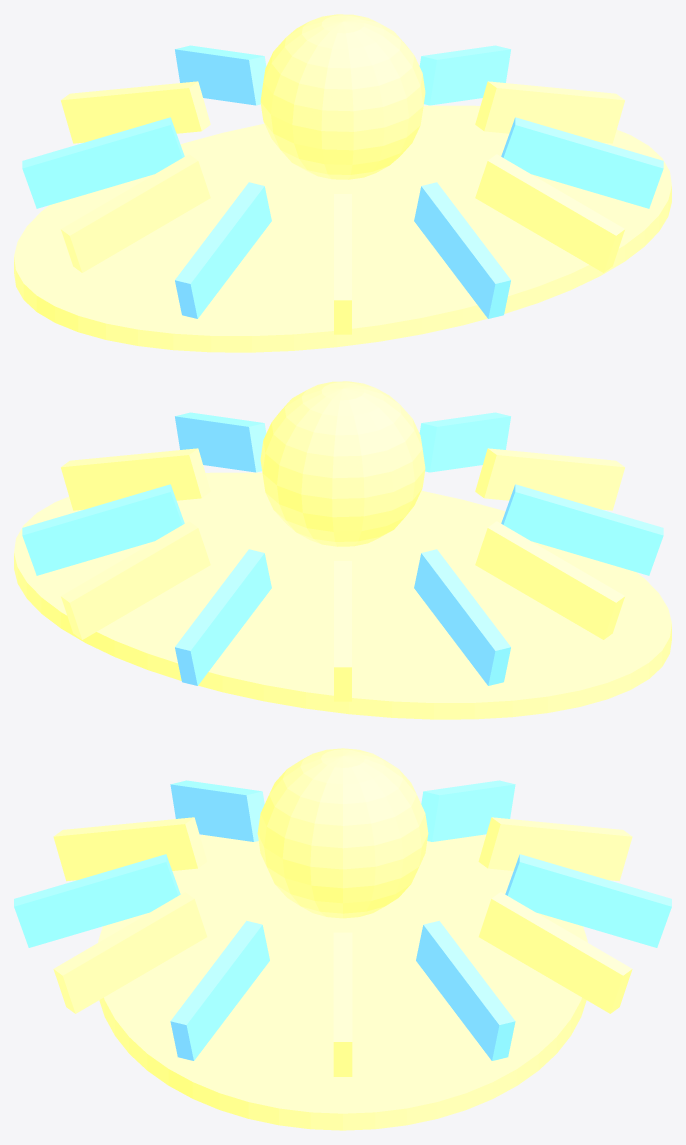
File: stagger_burst.glb
3 views of the same model, one above another, from view 1: azimuth 30°, elevation 25°; view 2: azimuth 150°, elevation 25°; view 3: azimuth 270°, elevation 25° (orthographic). The views are drawn at different scales.
Parts seen in each view (by area): view 1: stagger shock ring, stagger exposed core, stagger shard 5, stagger shard 11, stagger shard 6, stagger shard 10, stagger shard 0, stagger shard 4, stagger shard 7, stagger shard 9, stagger shard 3, stagger shard 1 (+1 smaller); view 2: stagger shock ring, stagger exposed core, stagger shard 1, stagger shard 7, stagger shard 2, stagger shard 6, stagger shard 0, stagger shard 8, stagger shard 3, stagger shard 5, stagger shard 9, stagger shard 11 (+1 smaller); view 3: stagger shock ring, stagger exposed core, stagger shard 3, stagger shard 9, stagger shard 2, stagger shard 10, stagger shard 4, stagger shard 8, stagger shard 1, stagger shard 11, stagger shard 5, stagger shard 7 (+1 smaller).
Part boxes in pixels (<box>): stagger shock ring: <box>14,105,671,352</box>; stagger exposed core: <box>260,14,425,179</box>; stagger shard 5: <box>22,117,184,208</box>; stagger shard 11: <box>501,117,663,208</box>; stagger shard 6: <box>60,154,210,272</box>; stagger shard 10: <box>475,154,625,272</box>; stagger shard 0: <box>475,81,624,143</box>; stagger shard 4: <box>61,81,210,143</box>; stagger shard 7: <box>175,182,271,318</box>; stagger shard 9: <box>414,182,510,318</box>; stagger shard 3: <box>175,45,266,105</box>; stagger shard 1: <box>419,45,510,105</box>; stagger shock ring: <box>14,472,671,719</box>; stagger exposed core: <box>260,381,425,546</box>; stagger shard 1: <box>22,484,184,575</box>; stagger shard 7: <box>501,484,663,575</box>; stagger shard 2: <box>60,521,210,639</box>; stagger shard 6: <box>475,521,625,639</box>; stagger shard 0: <box>61,448,210,510</box>; stagger shard 8: <box>475,448,624,510</box>; stagger shard 3: <box>175,549,271,685</box>; stagger shard 5: <box>414,549,510,685</box>; stagger shard 9: <box>419,412,510,472</box>; stagger shard 11: <box>175,412,266,472</box>; stagger shock ring: <box>98,834,587,1130</box>; stagger exposed core: <box>257,748,428,918</box>; stagger shard 3: <box>505,854,671,947</box>; stagger shard 9: <box>14,854,180,947</box>; stagger shard 2: <box>478,892,632,1013</box>; stagger shard 10: <box>53,892,207,1013</box>; stagger shard 4: <box>478,817,632,881</box>; stagger shard 8: <box>53,817,207,881</box>; stagger shard 1: <box>416,920,515,1060</box>; stagger shard 11: <box>170,920,269,1060</box>; stagger shard 5: <box>421,780,515,841</box>; stagger shard 7: <box>170,780,264,841</box>.
Size of the model in its own units: 1.36 by 0.4575 by 1.23.
